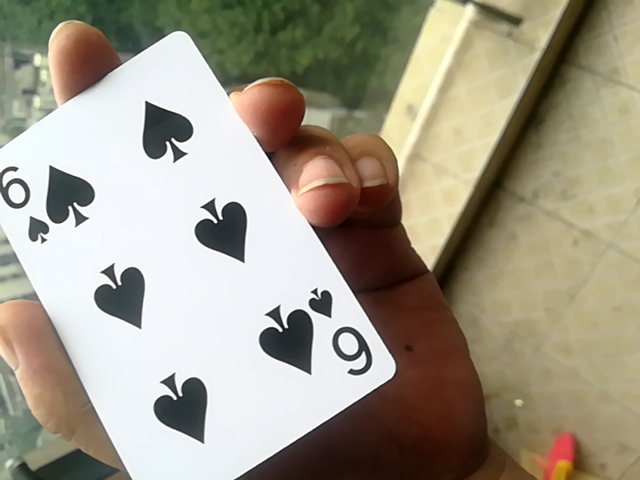ht 6: (3, 28, 377, 480)
